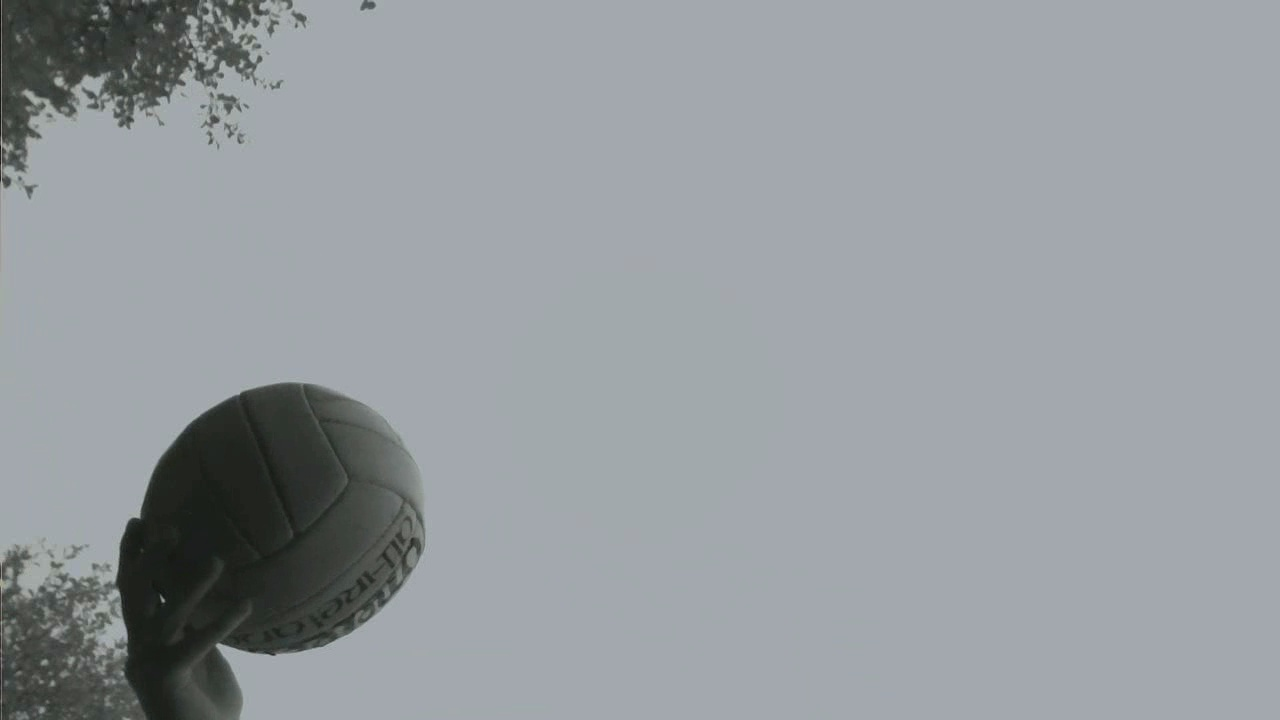Football-Spotter: (140, 382, 424, 651)
